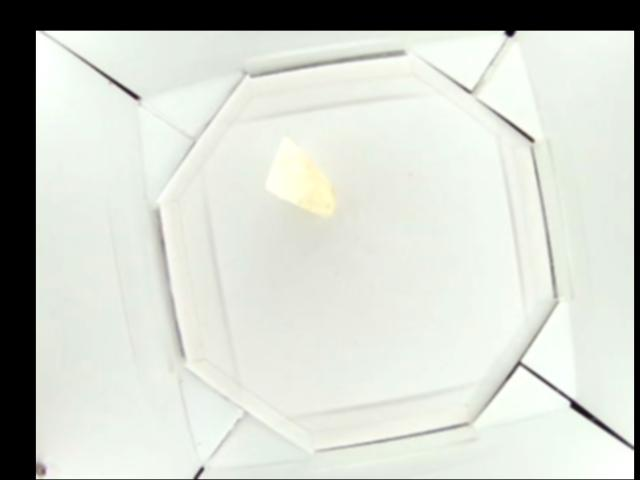Mooli: (269, 137, 335, 220)
